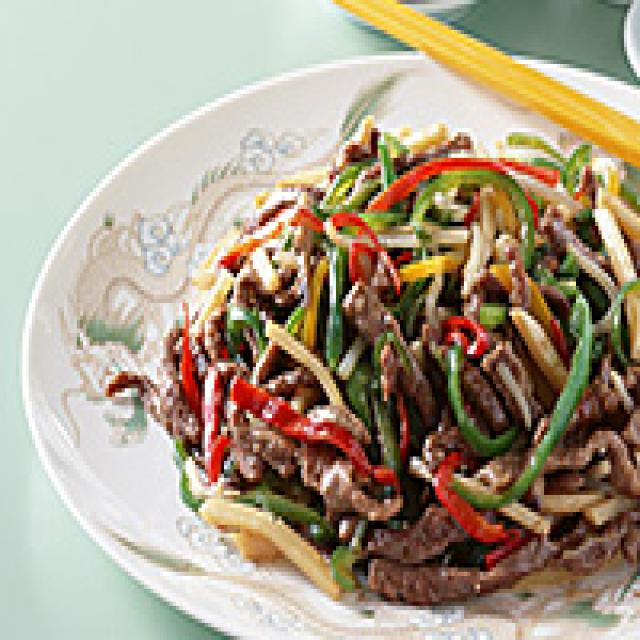牛肉菜式: (9, 34, 640, 640)
